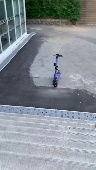beam: (52, 52, 62, 89)
